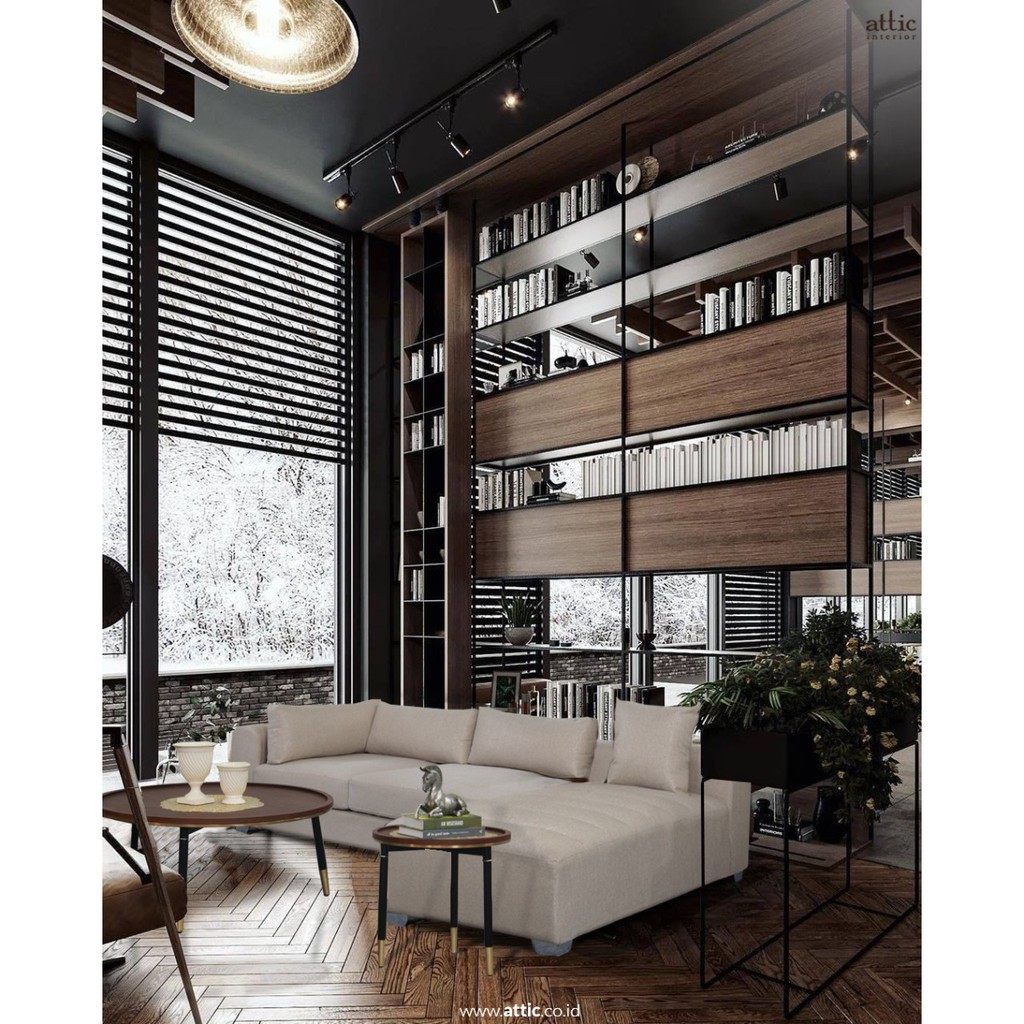Buku: (690, 240, 849, 339), (471, 161, 606, 260), (472, 262, 578, 323), (394, 808, 487, 842)
Gelas: (169, 735, 216, 808), (215, 759, 259, 813)
Meja: (102, 777, 339, 909), (366, 820, 516, 975)
Sova: (214, 693, 752, 946)
Tanaman: (694, 613, 923, 777)
